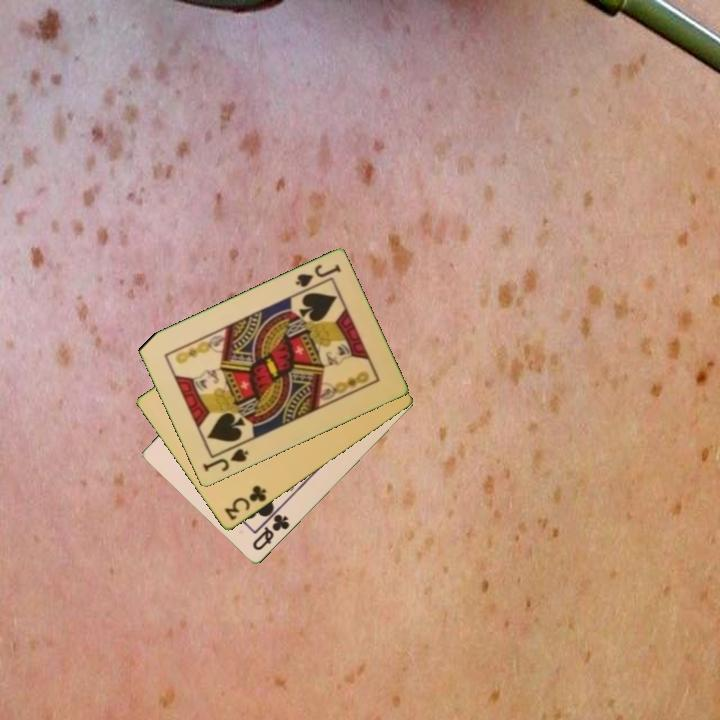3c: (221, 482, 269, 524)
Js: (291, 261, 344, 291), (199, 445, 251, 475)
Qc: (249, 505, 293, 554)
